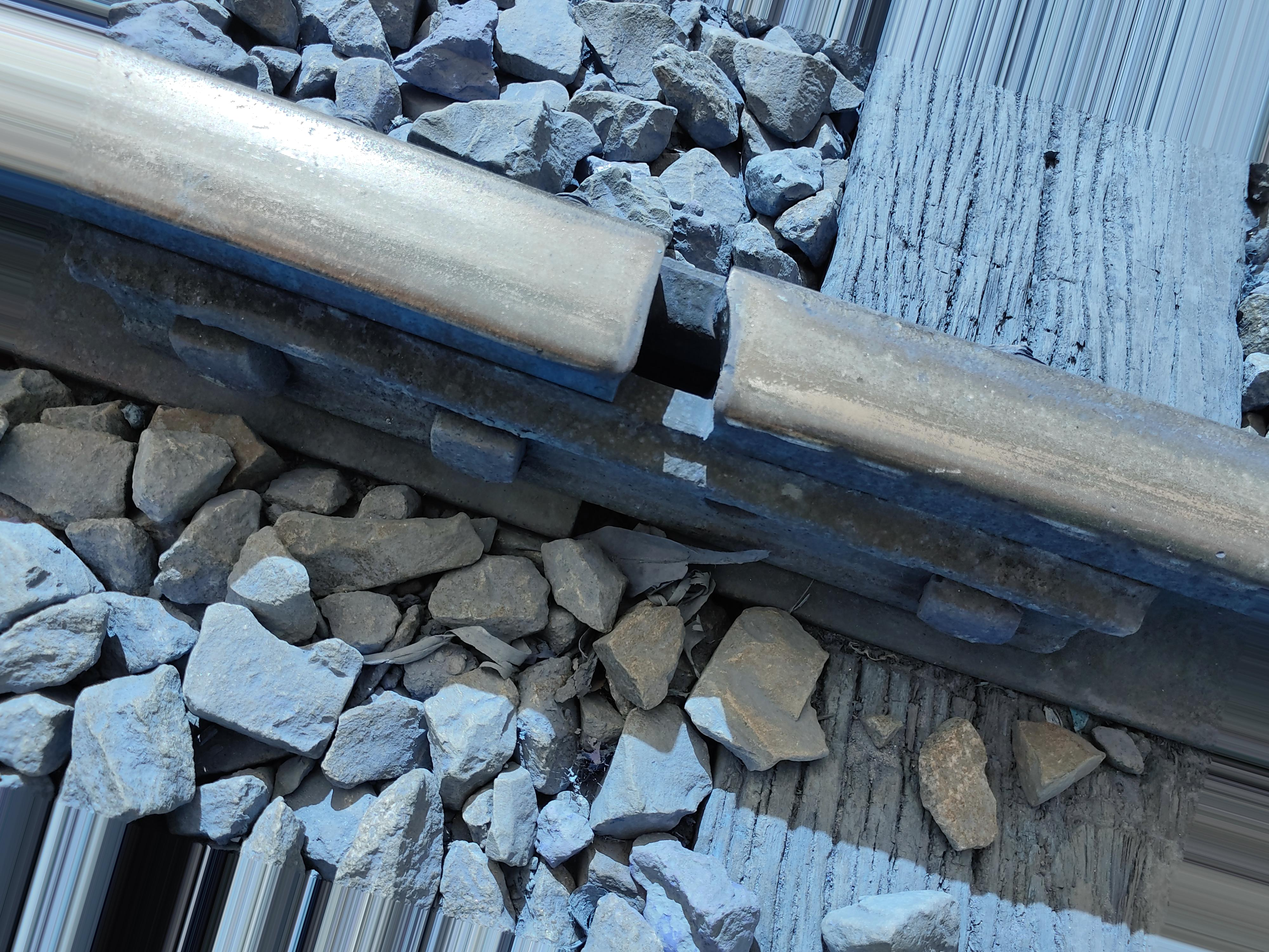tracks_fault: (566, 203, 799, 469)
